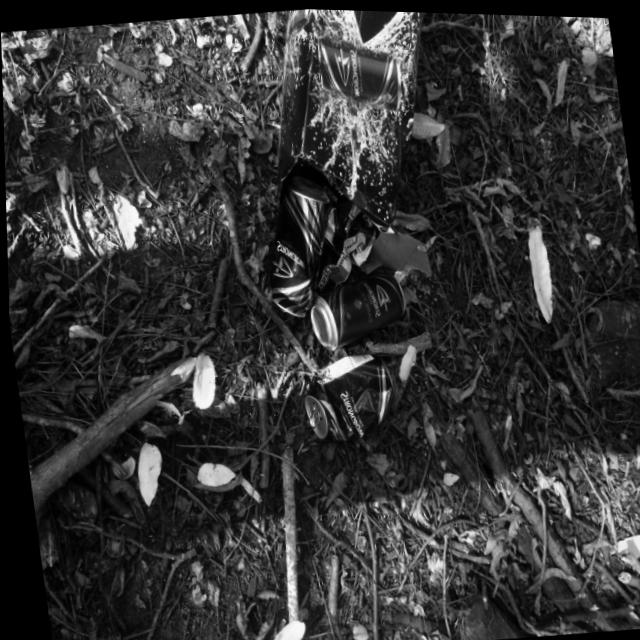Can-Metal: (244, 167, 342, 323), (297, 256, 418, 358), (290, 341, 400, 450)
Paper: (235, 5, 459, 187)
Plastic: (295, 184, 390, 299)
